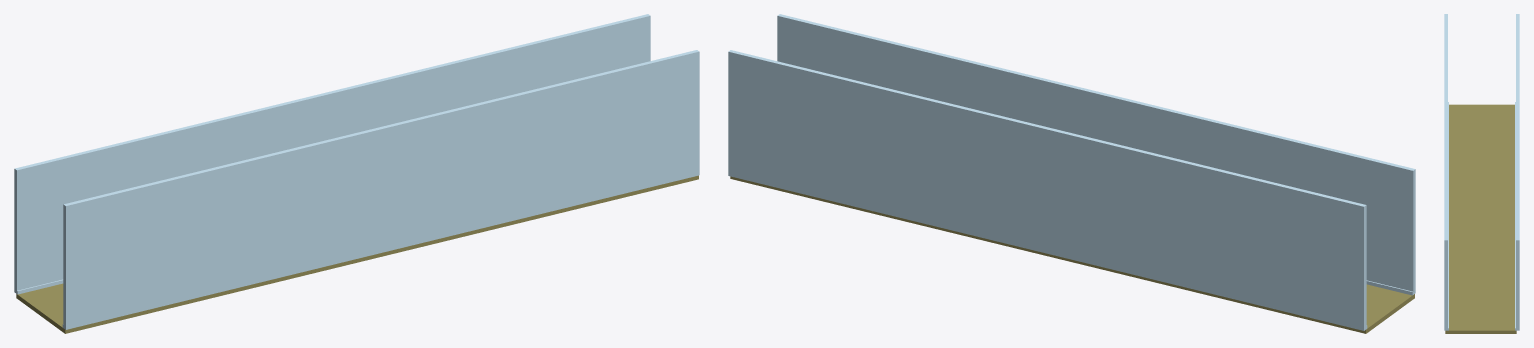
Rendered from Corredor.fbx.
The picture shows the model from 3 angles, left to right: view 1: azimuth 30°, elevation 25°; view 2: azimuth 150°, elevation 25°; view 3: azimuth 270°, elevation 25°; orthographic projection. The views are drawn at different scales.
Parts seen in each view (by area): view 1: ParedeCorredor, parede.005, pisoCorredor; view 2: parede.005, ParedeCorredor, pisoCorredor; view 3: pisoCorredor, ParedeCorredor, parede.005.
Boxes of the visible parts, <box> form: ParedeCorredor: <box>62,50,699,329</box>; parede.005: <box>14,14,650,294</box>; pisoCorredor: <box>16,175,698,333</box>; parede.005: <box>728,50,1367,330</box>; ParedeCorredor: <box>777,14,1415,295</box>; pisoCorredor: <box>730,176,1414,333</box>; pisoCorredor: <box>1445,104,1516,333</box>; ParedeCorredor: <box>1444,14,1448,330</box>; parede.005: <box>1515,14,1519,330</box>.
Bounding box in the file's own units: 1500 × 290 × 211.
